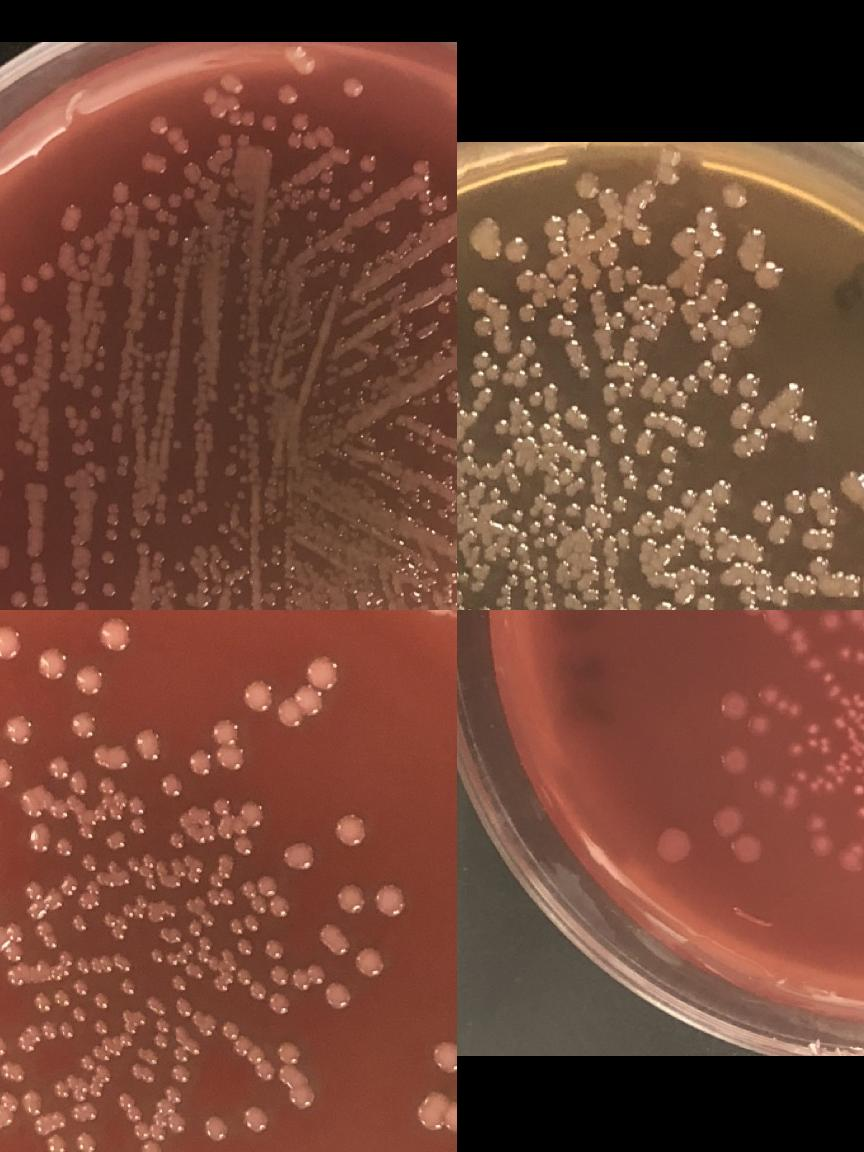pddamselae: (75, 853, 156, 912), (148, 898, 216, 968), (194, 800, 264, 858), (14, 1005, 90, 1054), (229, 876, 292, 935), (220, 1021, 274, 1080), (132, 1088, 188, 1140), (24, 877, 79, 920), (31, 978, 89, 1014), (168, 1026, 202, 1086), (209, 716, 244, 770), (46, 756, 92, 796), (276, 686, 321, 726), (102, 903, 146, 943), (0, 1091, 44, 1126), (94, 778, 127, 824), (31, 1111, 68, 1152), (415, 1100, 457, 1130), (206, 862, 234, 906), (318, 923, 351, 957), (92, 742, 132, 770), (164, 860, 201, 890), (235, 968, 266, 1000), (51, 1073, 86, 1101), (78, 1052, 110, 1082), (287, 1082, 316, 1112), (242, 1104, 270, 1134), (39, 648, 67, 678), (374, 884, 402, 912), (354, 948, 382, 976), (336, 814, 364, 842), (335, 884, 363, 912), (324, 982, 352, 1010), (308, 659, 336, 687), (244, 680, 272, 708), (202, 1114, 230, 1142), (99, 619, 127, 647), (74, 665, 102, 693), (68, 710, 96, 738), (24, 824, 52, 852), (284, 840, 310, 870), (137, 728, 164, 756), (4, 714, 31, 742), (116, 1092, 142, 1121), (292, 964, 324, 987), (150, 1016, 170, 1050), (433, 1042, 457, 1070), (98, 955, 133, 974), (36, 921, 58, 950), (276, 1042, 300, 1066), (266, 990, 290, 1014), (260, 938, 284, 962), (128, 1062, 156, 1082), (105, 828, 128, 852), (0, 924, 21, 950), (71, 1130, 95, 1152), (0, 1062, 25, 1083), (160, 774, 182, 797), (0, 628, 17, 656), (70, 1103, 95, 1122), (267, 966, 287, 986), (129, 794, 149, 814), (128, 816, 148, 836), (120, 976, 140, 996), (90, 1018, 110, 1038), (92, 992, 112, 1011), (0, 758, 13, 786), (212, 798, 232, 816), (168, 974, 188, 992), (54, 836, 72, 856), (233, 936, 252, 954), (174, 999, 192, 1017), (167, 831, 185, 849), (70, 914, 88, 932), (192, 752, 209, 770), (75, 957, 92, 975), (5, 944, 22, 962), (198, 1016, 216, 1032), (78, 824, 96, 840), (50, 802, 68, 818), (82, 853, 96, 873), (5, 970, 22, 986), (164, 902, 178, 920), (118, 1031, 132, 1049), (223, 957, 238, 973), (142, 878, 156, 892), (141, 1143, 159, 1152)
sinniae: (678, 274, 735, 400), (781, 484, 841, 531), (516, 510, 560, 570), (463, 280, 492, 340), (468, 350, 500, 404), (728, 426, 770, 461), (752, 262, 788, 296), (655, 442, 678, 488), (615, 454, 638, 494), (574, 168, 600, 202), (503, 231, 529, 265), (606, 406, 628, 445), (777, 381, 805, 411), (720, 181, 748, 210), (792, 414, 820, 442), (778, 567, 806, 595), (514, 331, 542, 359), (796, 525, 822, 553), (748, 497, 774, 525), (737, 372, 763, 400), (737, 300, 763, 328), (700, 232, 726, 260), (684, 423, 710, 451), (628, 222, 654, 250), (539, 211, 565, 239), (512, 300, 538, 328), (512, 267, 538, 295), (692, 590, 719, 610), (623, 590, 650, 610), (498, 546, 518, 572), (608, 309, 628, 331), (561, 294, 581, 316), (498, 574, 518, 596), (696, 544, 714, 566), (624, 263, 642, 285), (614, 529, 632, 551), (610, 494, 628, 516), (584, 434, 602, 456), (564, 501, 582, 519), (557, 468, 575, 486), (526, 390, 544, 408), (526, 360, 544, 378), (492, 416, 510, 434), (469, 579, 486, 597), (638, 428, 655, 444), (652, 600, 678, 610), (461, 437, 475, 455), (737, 601, 764, 610), (508, 509, 522, 523), (486, 486, 500, 500), (457, 605, 494, 610), (532, 494, 546, 506), (525, 588, 539, 598), (457, 388, 461, 412), (457, 570, 462, 588), (499, 605, 513, 610)
tmaritimum: (708, 804, 763, 866), (741, 610, 809, 654), (654, 826, 690, 862), (718, 744, 750, 778), (718, 690, 750, 724), (807, 814, 831, 857), (804, 719, 831, 755), (846, 832, 864, 872), (810, 775, 847, 792), (837, 644, 864, 666), (753, 774, 777, 798), (748, 714, 772, 738), (756, 683, 779, 706), (818, 610, 842, 631), (845, 610, 864, 634), (837, 694, 864, 710), (804, 655, 822, 673), (786, 742, 804, 760), (786, 704, 804, 722), (851, 775, 864, 798), (820, 670, 836, 684), (825, 684, 840, 698), (853, 742, 864, 757)
vangil: (148, 265, 190, 416), (302, 302, 337, 388), (290, 112, 334, 150), (200, 84, 226, 120), (140, 190, 166, 220), (166, 128, 190, 156), (128, 526, 150, 556), (104, 501, 119, 542), (61, 205, 80, 232), (31, 315, 54, 336), (264, 578, 280, 608), (415, 436, 437, 456), (356, 152, 376, 172), (342, 76, 362, 96), (328, 146, 348, 166), (294, 54, 314, 74), (148, 115, 168, 135), (110, 182, 130, 202), (12, 438, 34, 456), (437, 260, 456, 280), (277, 86, 296, 106), (432, 193, 450, 213), (410, 156, 428, 176), (258, 113, 276, 133), (214, 132, 234, 150), (224, 75, 242, 93), (68, 579, 86, 597), (12, 352, 30, 370), (204, 156, 222, 172), (148, 156, 166, 172), (116, 454, 128, 478), (98, 582, 116, 598), (98, 549, 116, 565), (0, 545, 9, 576), (0, 371, 16, 388), (20, 276, 36, 292), (31, 593, 48, 608), (240, 112, 255, 128), (165, 193, 180, 209), (37, 263, 52, 279), (10, 593, 26, 608), (155, 416, 174, 428), (442, 569, 456, 585), (0, 306, 14, 322), (164, 579, 176, 597), (8, 326, 23, 340), (0, 272, 6, 306), (428, 390, 442, 404), (194, 499, 208, 513), (154, 309, 168, 323), (445, 390, 457, 404), (434, 432, 446, 446), (404, 414, 416, 428), (402, 431, 414, 445), (179, 512, 191, 526), (175, 492, 187, 506), (172, 560, 184, 574), (154, 263, 166, 277), (93, 359, 105, 373), (90, 386, 102, 400), (88, 407, 100, 421), (83, 459, 95, 473), (80, 237, 92, 251), (61, 475, 73, 489), (76, 254, 89, 266), (154, 512, 166, 524), (146, 226, 158, 238), (450, 288, 457, 308), (72, 602, 89, 610), (0, 466, 5, 481)
